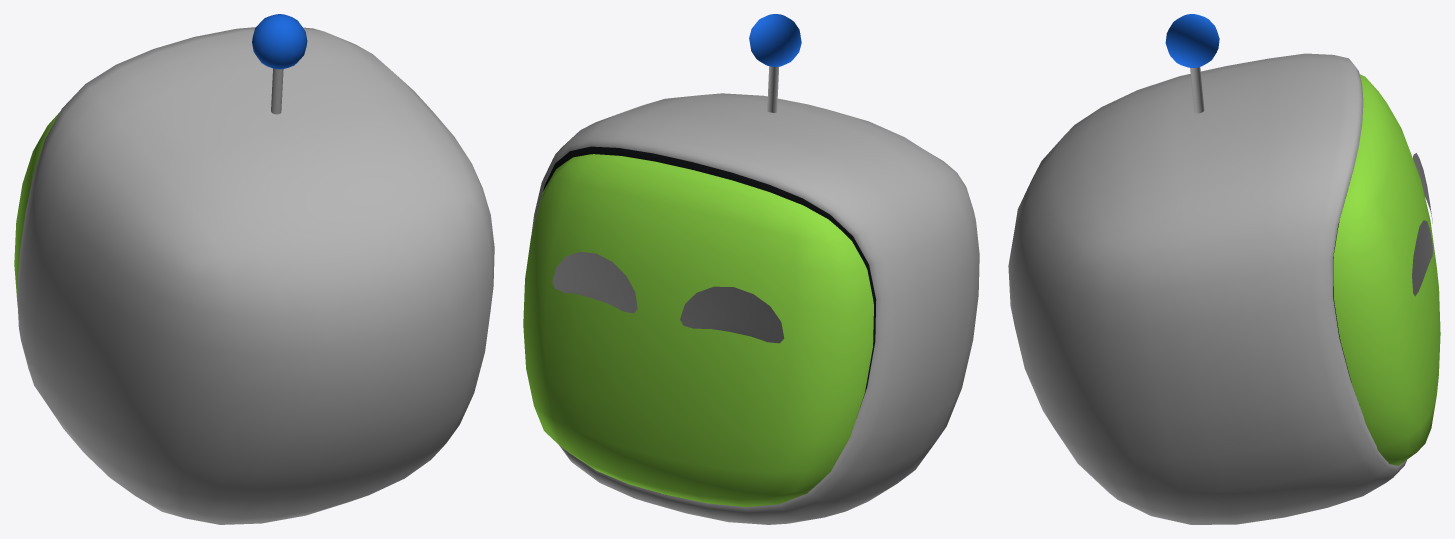
The model's file is E_emsh_036.fbx.
The picture shows the model from 3 angles, left to right: view 1: azimuth 30°, elevation 25°; view 2: azimuth 150°, elevation 25°; view 3: azimuth 270°, elevation 25°; orthographic projection. The views are drawn at different scales.
Parts seen in each view (by area): view 1: robot; view 2: robot, 对象001; view 3: robot, 对象001.
Boxes of the visible parts, bbox=[...] form: robot: bbox=[14, 14, 494, 524]; robot: bbox=[523, 14, 979, 524]; 对象001: bbox=[552, 252, 784, 343]; robot: bbox=[1008, 14, 1440, 524]; 对象001: bbox=[1412, 153, 1432, 296].
Bounding box in the file's own units: 36.29 × 42.97 × 35.42.
